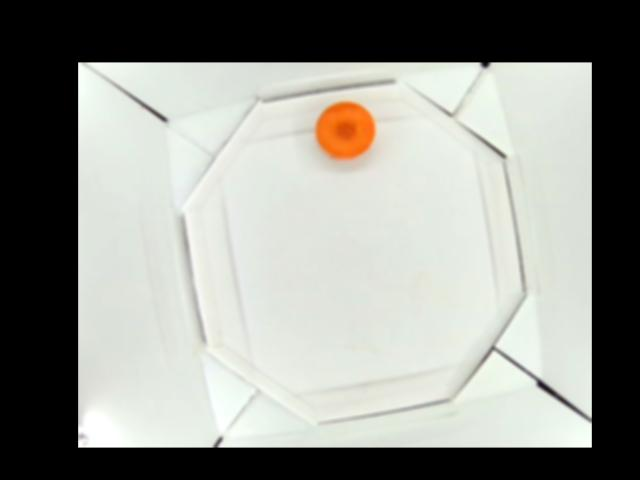Carrot: (316, 101, 375, 159)
